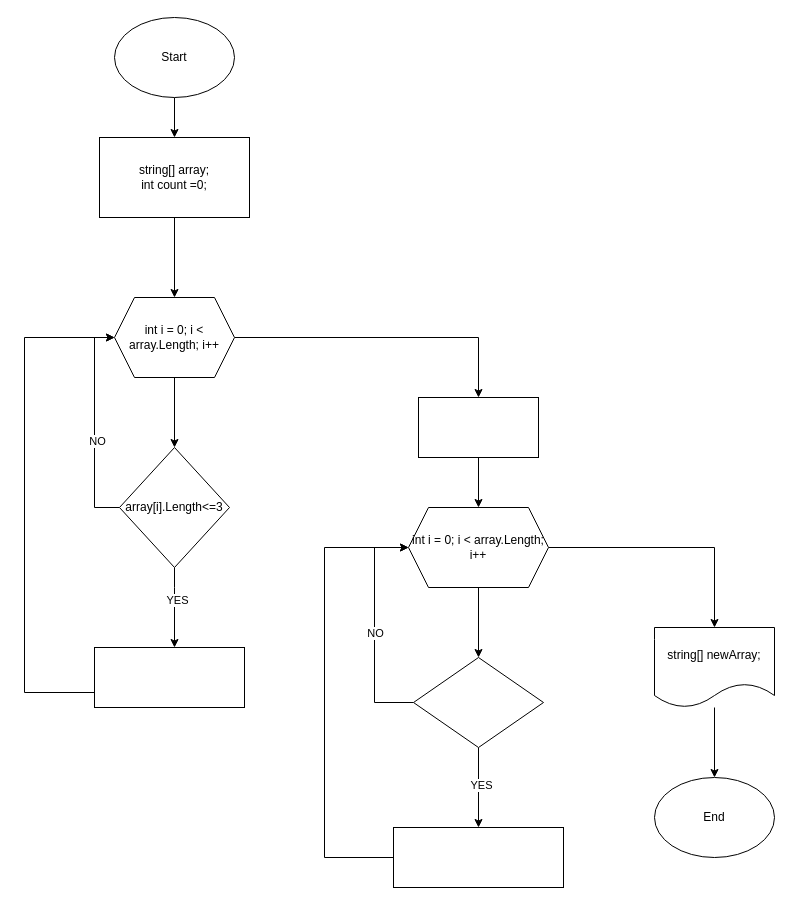
Image size: 792x905. Some labels were removed from this diagram. Each missing label, with the centre of its shape:
"array[i].Length <= 3" belongs at point 478,702.
"count++;" belongs at point 169,677.
"newArray[newArray.Length - count] = array[i]; count --;" belongs at point 478,857.
"string[] newArray = new string[count]" belongs at point 478,427.
